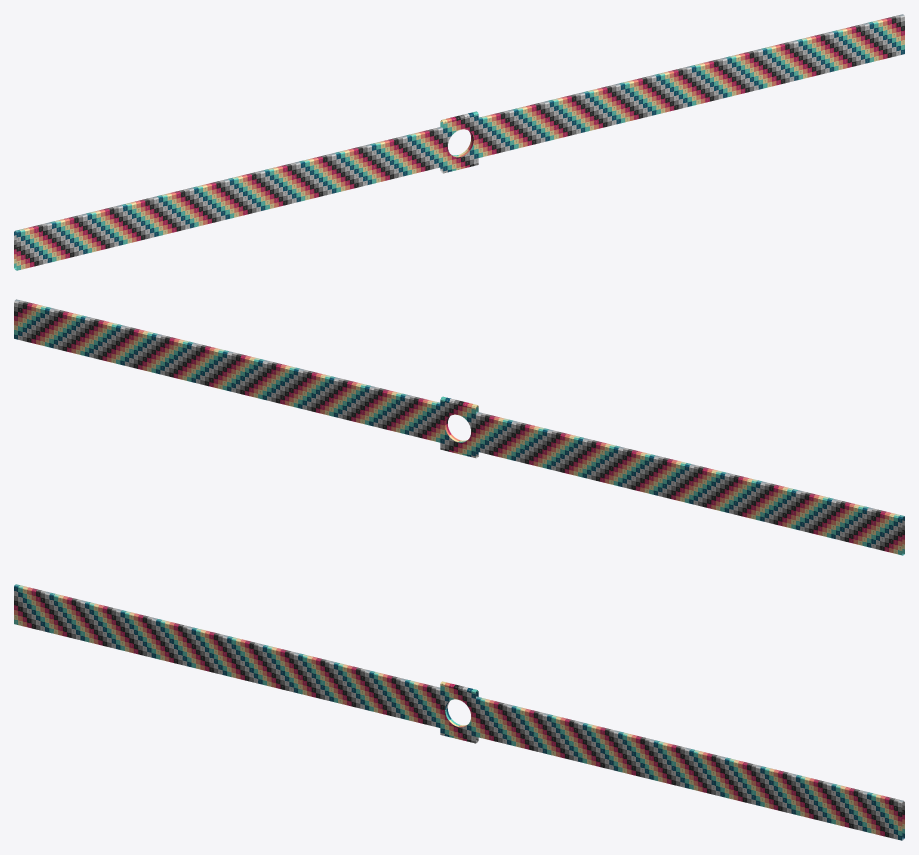
File: panelWindowRound290_manMorph2.glb
3 renders of one model, top to bottom at view 1: azimuth 30°, elevation 25°; view 2: azimuth 150°, elevation 25°; view 3: azimuth 330°, elevation 25°, orthographic.
Visible parts, largest first — view 1: panelClosedMaxWidth.001, panelClosedMaxHeight.001; view 2: panelClosedMaxWidth.001, panelClosedMaxHeight.001, panelClosed.001; view 3: panelClosedMaxWidth.001, panelClosedMaxHeight.001.
Part boxes in pixels (box(x1,y1,x2,y2)): panelClosedMaxWidth.001: box(14, 14, 904, 270); panelClosedMaxHeight.001: box(440, 111, 478, 173); panelClosedMaxWidth.001: box(14, 299, 904, 555); panelClosedMaxHeight.001: box(440, 396, 478, 458); panelClosed.001: box(440, 406, 477, 451); panelClosedMaxWidth.001: box(14, 584, 904, 840); panelClosedMaxHeight.001: box(440, 681, 478, 743).
Bounding box in the file's own units: 7.5 × 0.42 × 0.04.
1 material, 1 textured.
